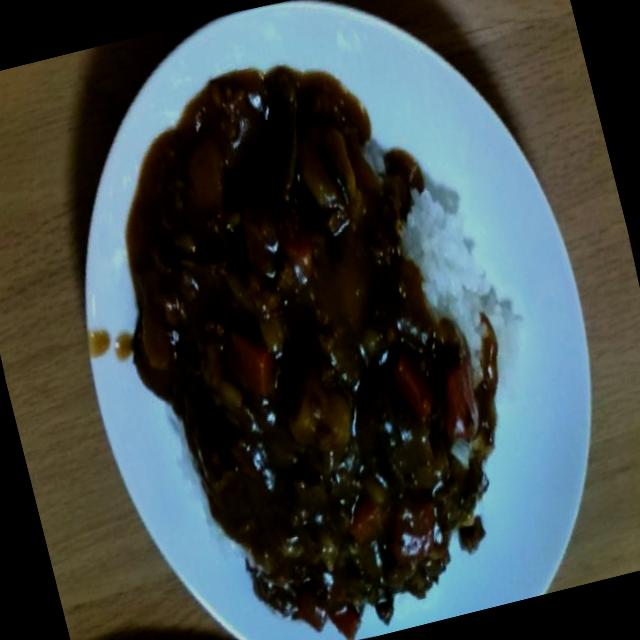Beef Curry: (67, 20, 549, 640)
